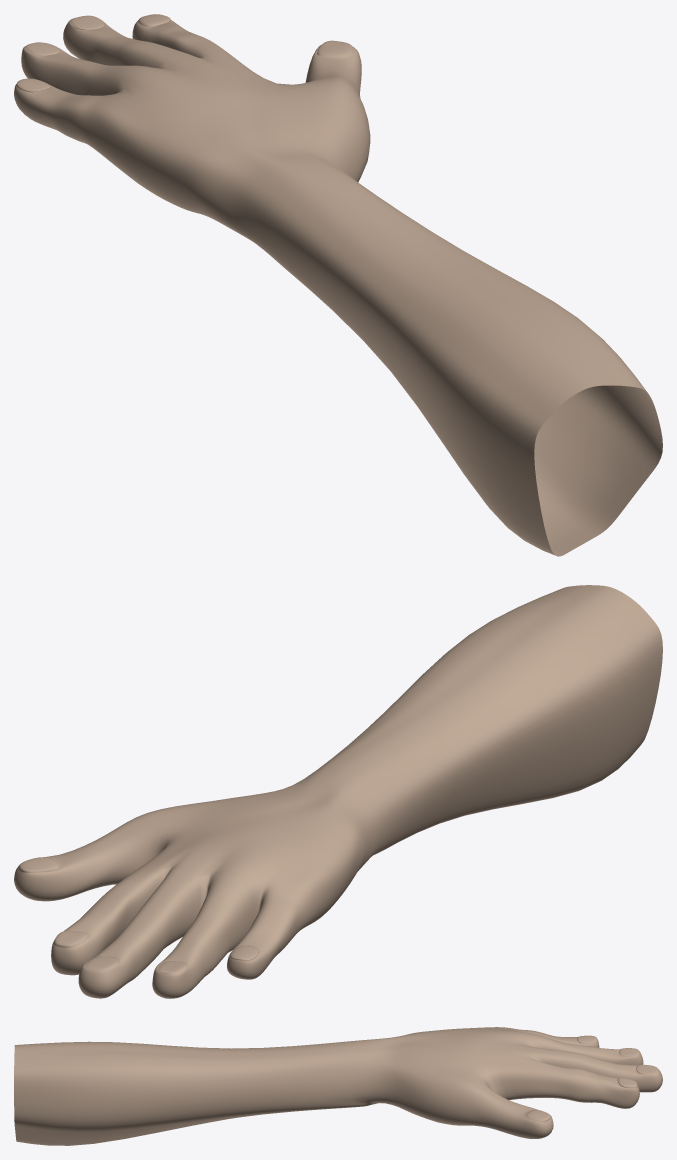
The model's file is рука от зайки немного переделана.fbx.
3 renders of one model, top to bottom at view 1: azimuth 30°, elevation 25°; view 2: azimuth 150°, elevation 25°; view 3: azimuth 270°, elevation 25°, orthographic. The views are drawn at different scales.
Parts seen in each view (by area): view 1: Sphere.011; view 2: Sphere.011; view 3: Sphere.011.
Part boxes in pixels (box(x1,y1,x2,y2)): Sphere.011: box(14, 14, 662, 556); Sphere.011: box(14, 585, 662, 998); Sphere.011: box(14, 1027, 662, 1145).
Bounding box in the file's own units: 19.3 × 11.34 × 60.01.
